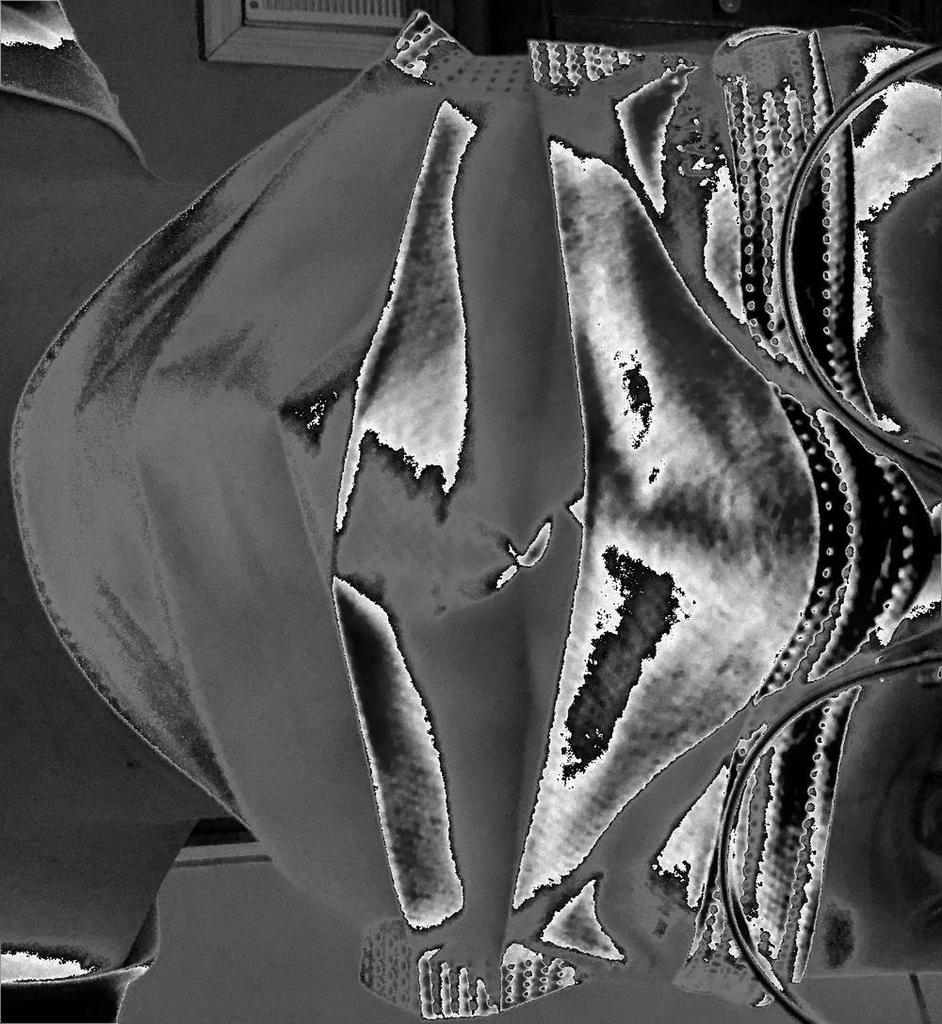Low GSM: (3, 2, 804, 1019)
